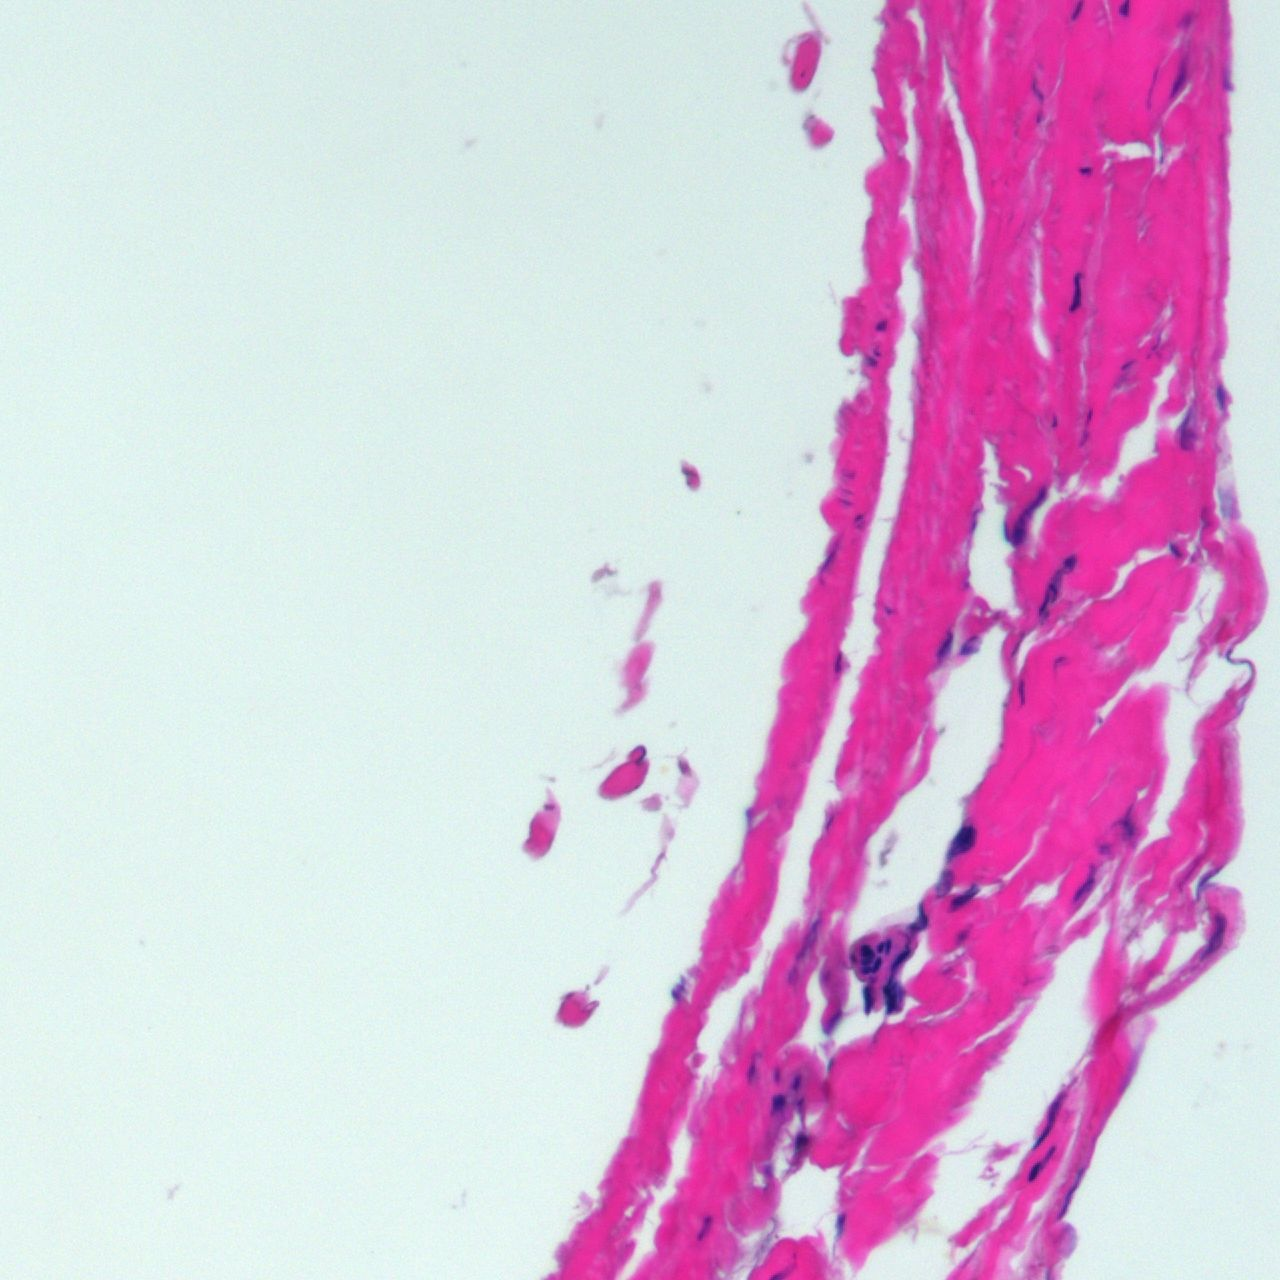nucleus-HE: (779, 910, 829, 985), (1023, 1089, 1073, 1153), (1005, 481, 1049, 549), (941, 817, 981, 866), (1054, 1167, 1087, 1223), (1107, 803, 1148, 843), (1022, 1142, 1058, 1186), (1199, 915, 1231, 964), (1169, 43, 1193, 98), (944, 880, 982, 913), (905, 903, 934, 937), (813, 543, 839, 579), (1067, 270, 1084, 312), (932, 867, 955, 899), (1071, 873, 1096, 903), (693, 1213, 716, 1244), (821, 1005, 845, 1032), (1030, 77, 1044, 123), (1047, 651, 1070, 678), (964, 505, 982, 538), (886, 947, 911, 972), (1179, 407, 1192, 451), (860, 956, 886, 979), (937, 629, 955, 660), (1173, 7, 1197, 30), (881, 981, 898, 1014), (1164, 538, 1185, 563), (745, 1051, 760, 1088), (1067, 0, 1083, 23), (958, 636, 978, 655), (787, 1071, 804, 1092), (769, 1092, 785, 1114), (862, 986, 872, 1015), (792, 1133, 808, 1153), (859, 944, 874, 964), (1062, 551, 1076, 572), (831, 493, 852, 508), (1223, 67, 1234, 91), (862, 354, 880, 369), (824, 1051, 837, 1073), (835, 1212, 845, 1238), (852, 512, 867, 530), (837, 484, 855, 499), (1216, 381, 1225, 408), (1119, 358, 1138, 370), (1097, 842, 1114, 855), (1036, 597, 1047, 617), (874, 318, 888, 332), (1017, 678, 1024, 703), (1077, 164, 1094, 175), (835, 651, 842, 674), (1084, 408, 1094, 425), (1049, 583, 1057, 602), (1049, 411, 1058, 428), (884, 937, 892, 953), (772, 1065, 779, 1082), (883, 604, 891, 617), (876, 940, 884, 952), (872, 348, 881, 356)
